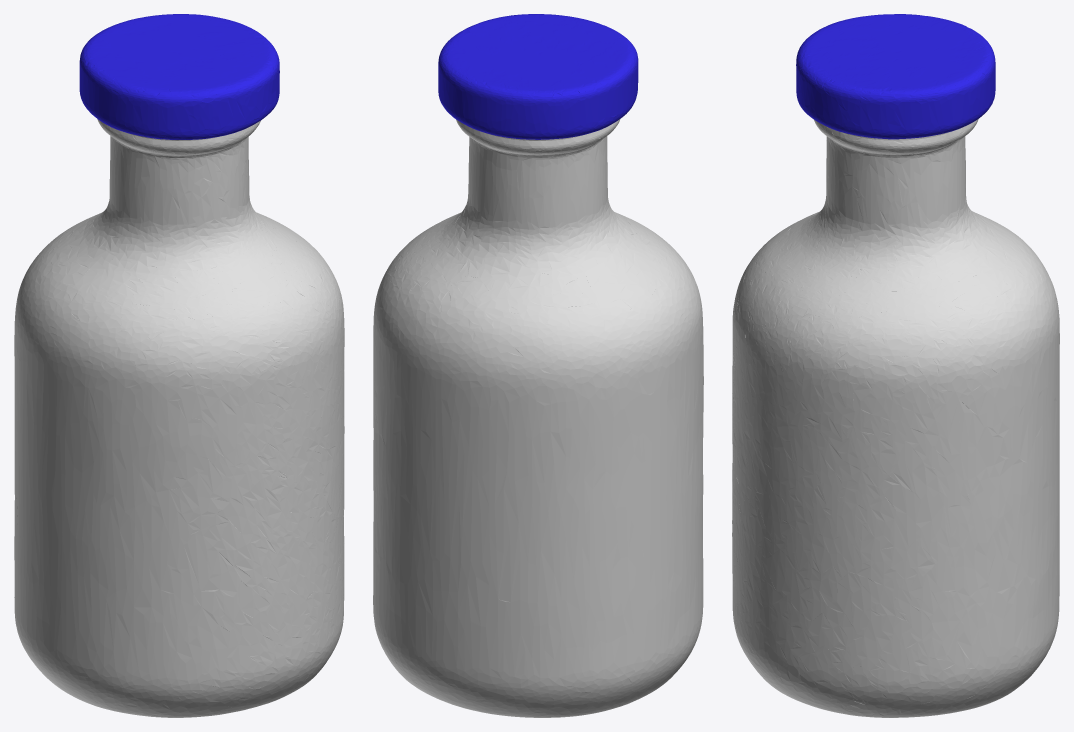
Rendered from glass.glb.
3 renders of one model, left to right at view 1: azimuth 30°, elevation 25°; view 2: azimuth 150°, elevation 25°; view 3: azimuth 270°, elevation 25°, orthographic.
Parts seen in each view (by area): view 1: geometry_0; view 2: geometry_0; view 3: geometry_0.
Part boxes in pixels (x1,y1,x2,y2): geometry_0: (14,14,344,717); geometry_0: (373,14,703,717); geometry_0: (732,14,1059,717).
Size of the model in its own units: 0.9754 by 2 by 0.9714.
